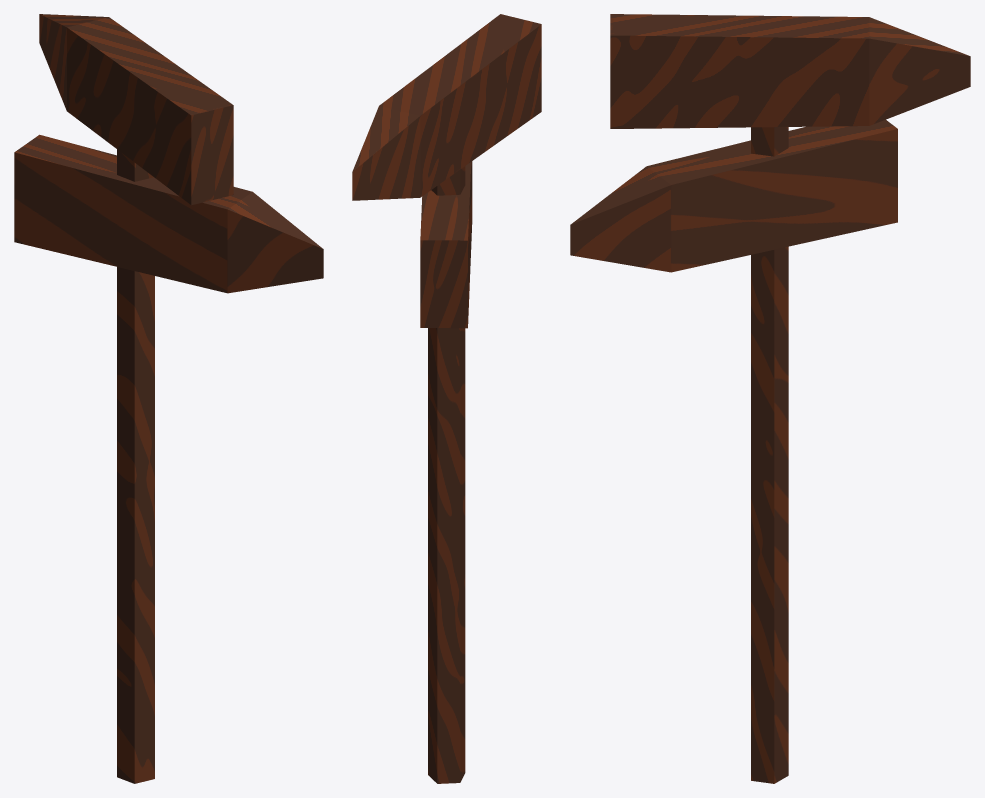
The model's file is Sign.fbx.
3 views of the same model, side by side, from view 1: azimuth 30°, elevation 25°; view 2: azimuth 150°, elevation 25°; view 3: azimuth 270°, elevation 25° (orthographic). The views are drawn at different scales.
Parts seen in each view (by area): view 1: Cube.001; view 2: Cube.001; view 3: Cube.001.
Part boxes in pixels (x1=…): Cube.001: x1=14, y1=14, x2=323, y2=783; Cube.001: x1=352, y1=14, x2=541, y2=783; Cube.001: x1=570, y1=14, x2=970, y2=783.
Bounding box in the file's own units: 168 × 708 × 343.
Materials: 1 (1 with a texture image).
